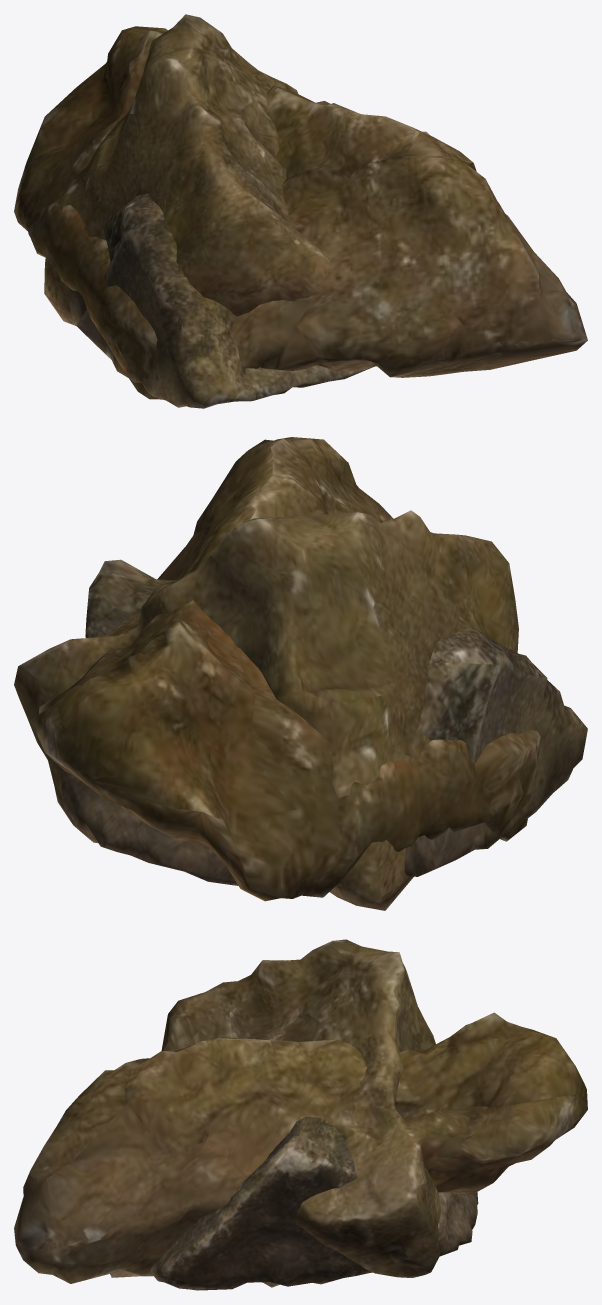
The model's file is groundcover.glb.
3 views of the same model, one above another, from view 1: azimuth 30°, elevation 25°; view 2: azimuth 150°, elevation 25°; view 3: azimuth 270°, elevation 25° (orthographic). The views are drawn at different scales.
Visible parts, largest first — view 1: rock_3, rock_1, rock_2; view 2: rock_3, rock_1, rock_2; view 3: rock_3, rock_1, rock_2.
Part boxes in pixels (x1,y1,x2,y2): rock_3: [14, 26, 587, 399]; rock_1: [44, 14, 331, 325]; rock_2: [68, 131, 430, 408]; rock_3: [30, 437, 540, 901]; rock_1: [14, 510, 518, 910]; rock_2: [60, 559, 587, 885]; rock_3: [14, 1012, 587, 1287]; rock_1: [161, 939, 440, 1277]; rock_2: [150, 1116, 478, 1290].
Bounding box in the file's own units: 2.25 × 1.77 × 3.36.
Materials: 4 (4 with a texture image).
